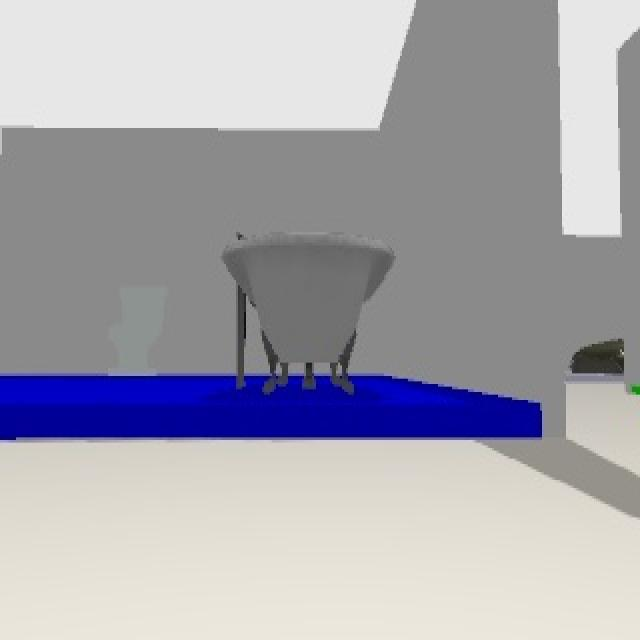bathtub: (220, 235, 396, 392)
